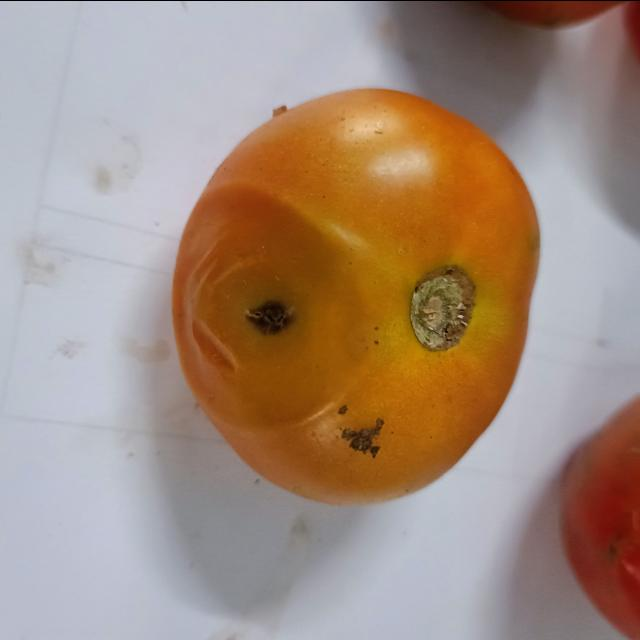Botrytis: (340, 417, 390, 458), (244, 296, 297, 334)
